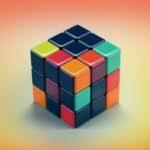cubos: (24, 20, 123, 131)
